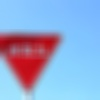Regulatory_sign_triangle: (1, 31, 69, 92)
